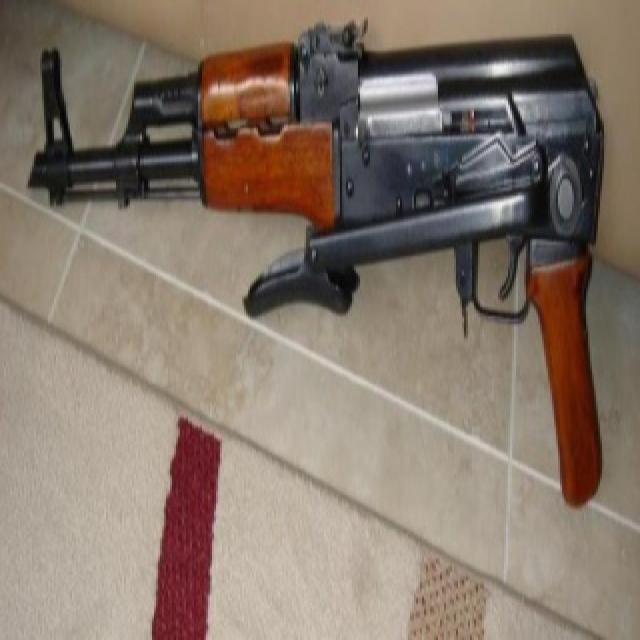rifle: (29, 13, 617, 511)
